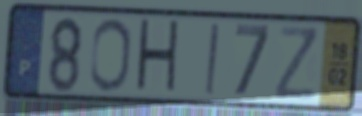7: (232, 21, 273, 100)
8: (46, 13, 85, 95)
H: (133, 16, 182, 99)
I: (203, 21, 221, 98)
O: (87, 16, 133, 94)
Z: (274, 24, 320, 103)
